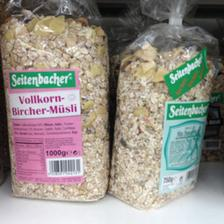Cerealien: (0, 18, 108, 200), (110, 42, 214, 210)
